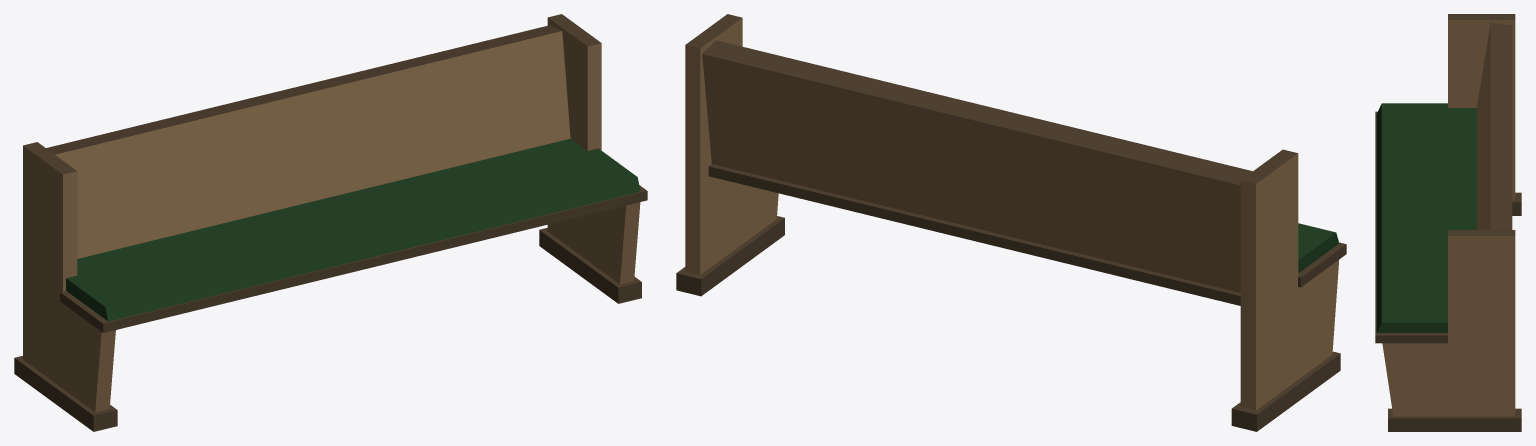
Rendered from ChurchBenchSmall.glb.
3 renders of one model, left to right at view 1: azimuth 30°, elevation 25°; view 2: azimuth 150°, elevation 25°; view 3: azimuth 270°, elevation 25°, orthographic. The views are drawn at different scales.
Parts seen in each view (by area): view 1: ChurchBenchSmall; view 2: ChurchBenchSmall; view 3: ChurchBenchSmall.
Boxes of the visible parts, x1,y1,x2,y2 form: ChurchBenchSmall: [14, 14, 647, 431]; ChurchBenchSmall: [676, 14, 1346, 431]; ChurchBenchSmall: [1375, 14, 1521, 431].
Size of the model in its own units: 2 by 0.8011 by 0.5479.
Materials: 1 (1 with a texture image).
